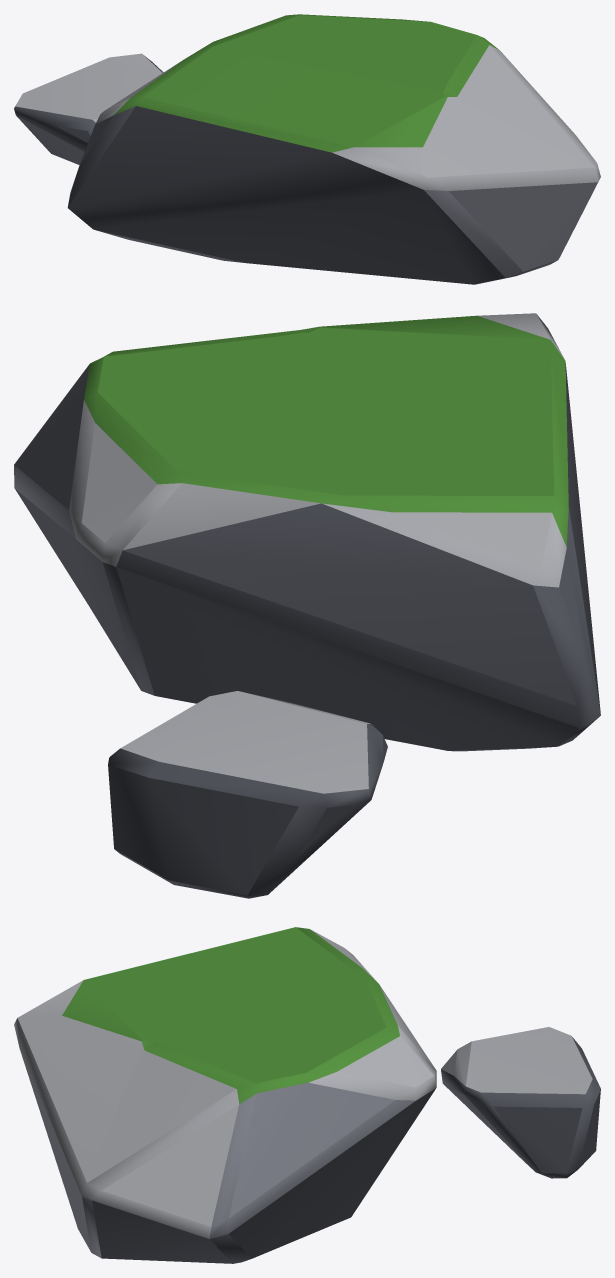
The model's file is Rock_02.glb.
The picture shows the model from 3 angles, top to bottom: view 1: azimuth 30°, elevation 25°; view 2: azimuth 150°, elevation 25°; view 3: azimuth 270°, elevation 25°; orthographic projection. The views are drawn at different scales.
Parts seen in each view (by area): view 1: Rock_02; view 2: Rock_02; view 3: Rock_02.
Part boxes in pixels (<box>): Rock_02: <box>14,14,600,284</box>; Rock_02: <box>14,313,600,898</box>; Rock_02: <box>14,927,600,1263</box>.
Bounding box in the file's own units: 2.77 × 1.05 × 3.11.
